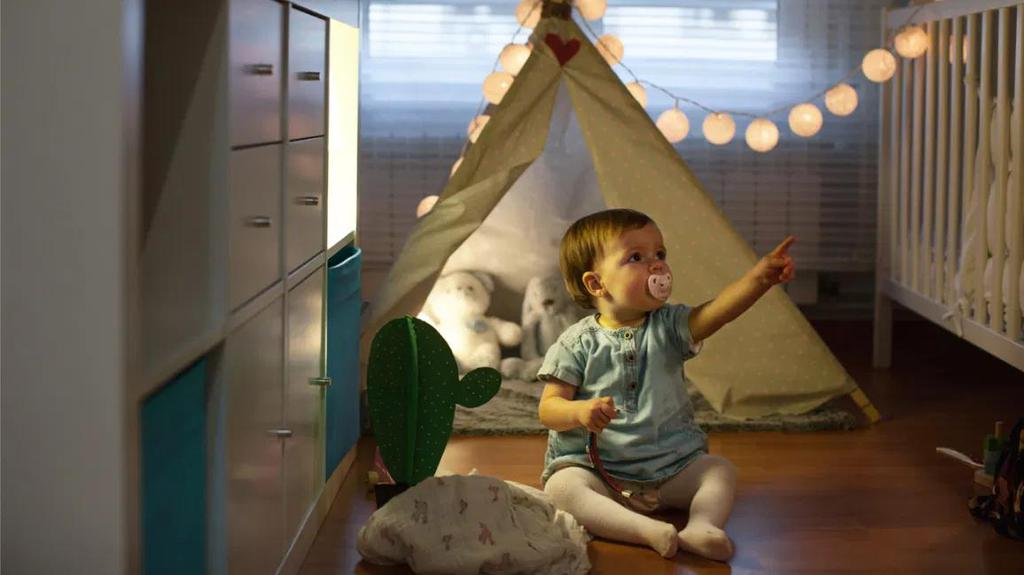child: (504, 200, 814, 565)
